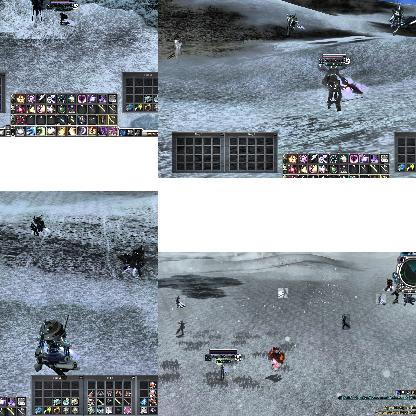caliana: (318, 66, 360, 110), (163, 39, 183, 63), (31, 0, 43, 19), (174, 320, 186, 336), (342, 314, 350, 330), (175, 296, 185, 308), (278, 288, 288, 298), (376, 294, 386, 304)
